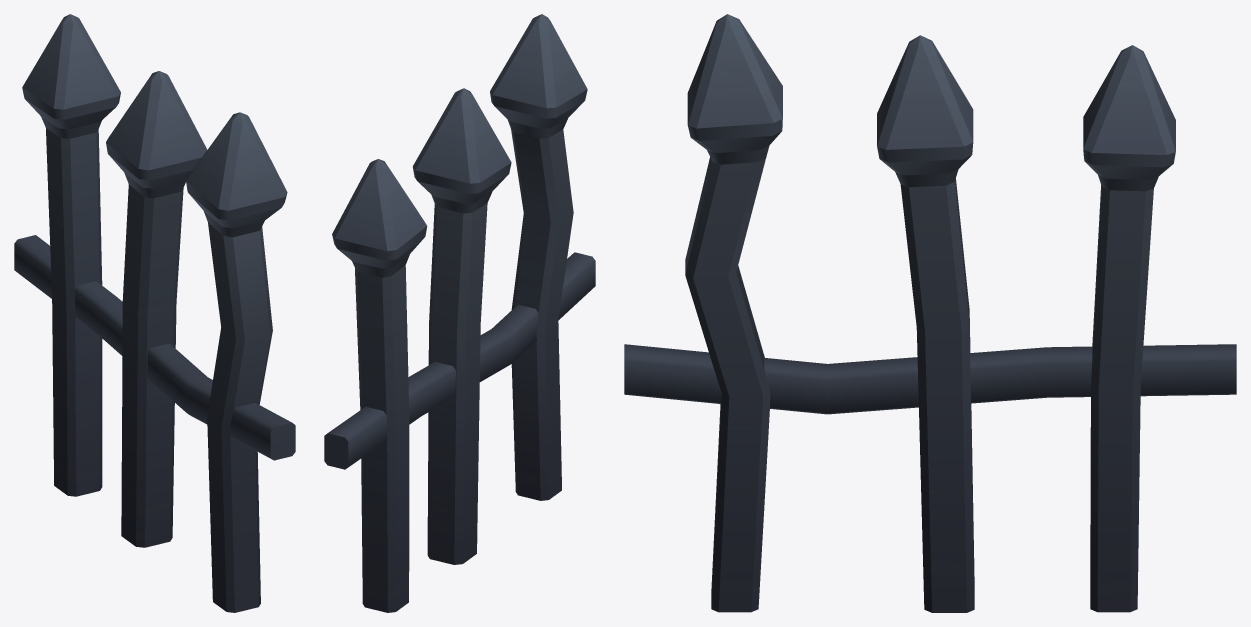
Rendered from Fence_3_2.glb.
3 views of the same model, side by side, from view 1: azimuth 30°, elevation 25°; view 2: azimuth 150°, elevation 25°; view 3: azimuth 270°, elevation 25° (orthographic). The views are drawn at different scales.
Visible parts, largest first — view 1: Fence_3_2; view 2: Fence_3_2; view 3: Fence_3_2.
Part boxes in pixels (x1,y1,x2,y2): Fence_3_2: (14,14,295,612); Fence_3_2: (324,14,595,612); Fence_3_2: (624,14,1236,612).
Size of the model in its own units: 0.1533 by 1.03 by 0.9745.
Materials: 1 (1 with a texture image).
